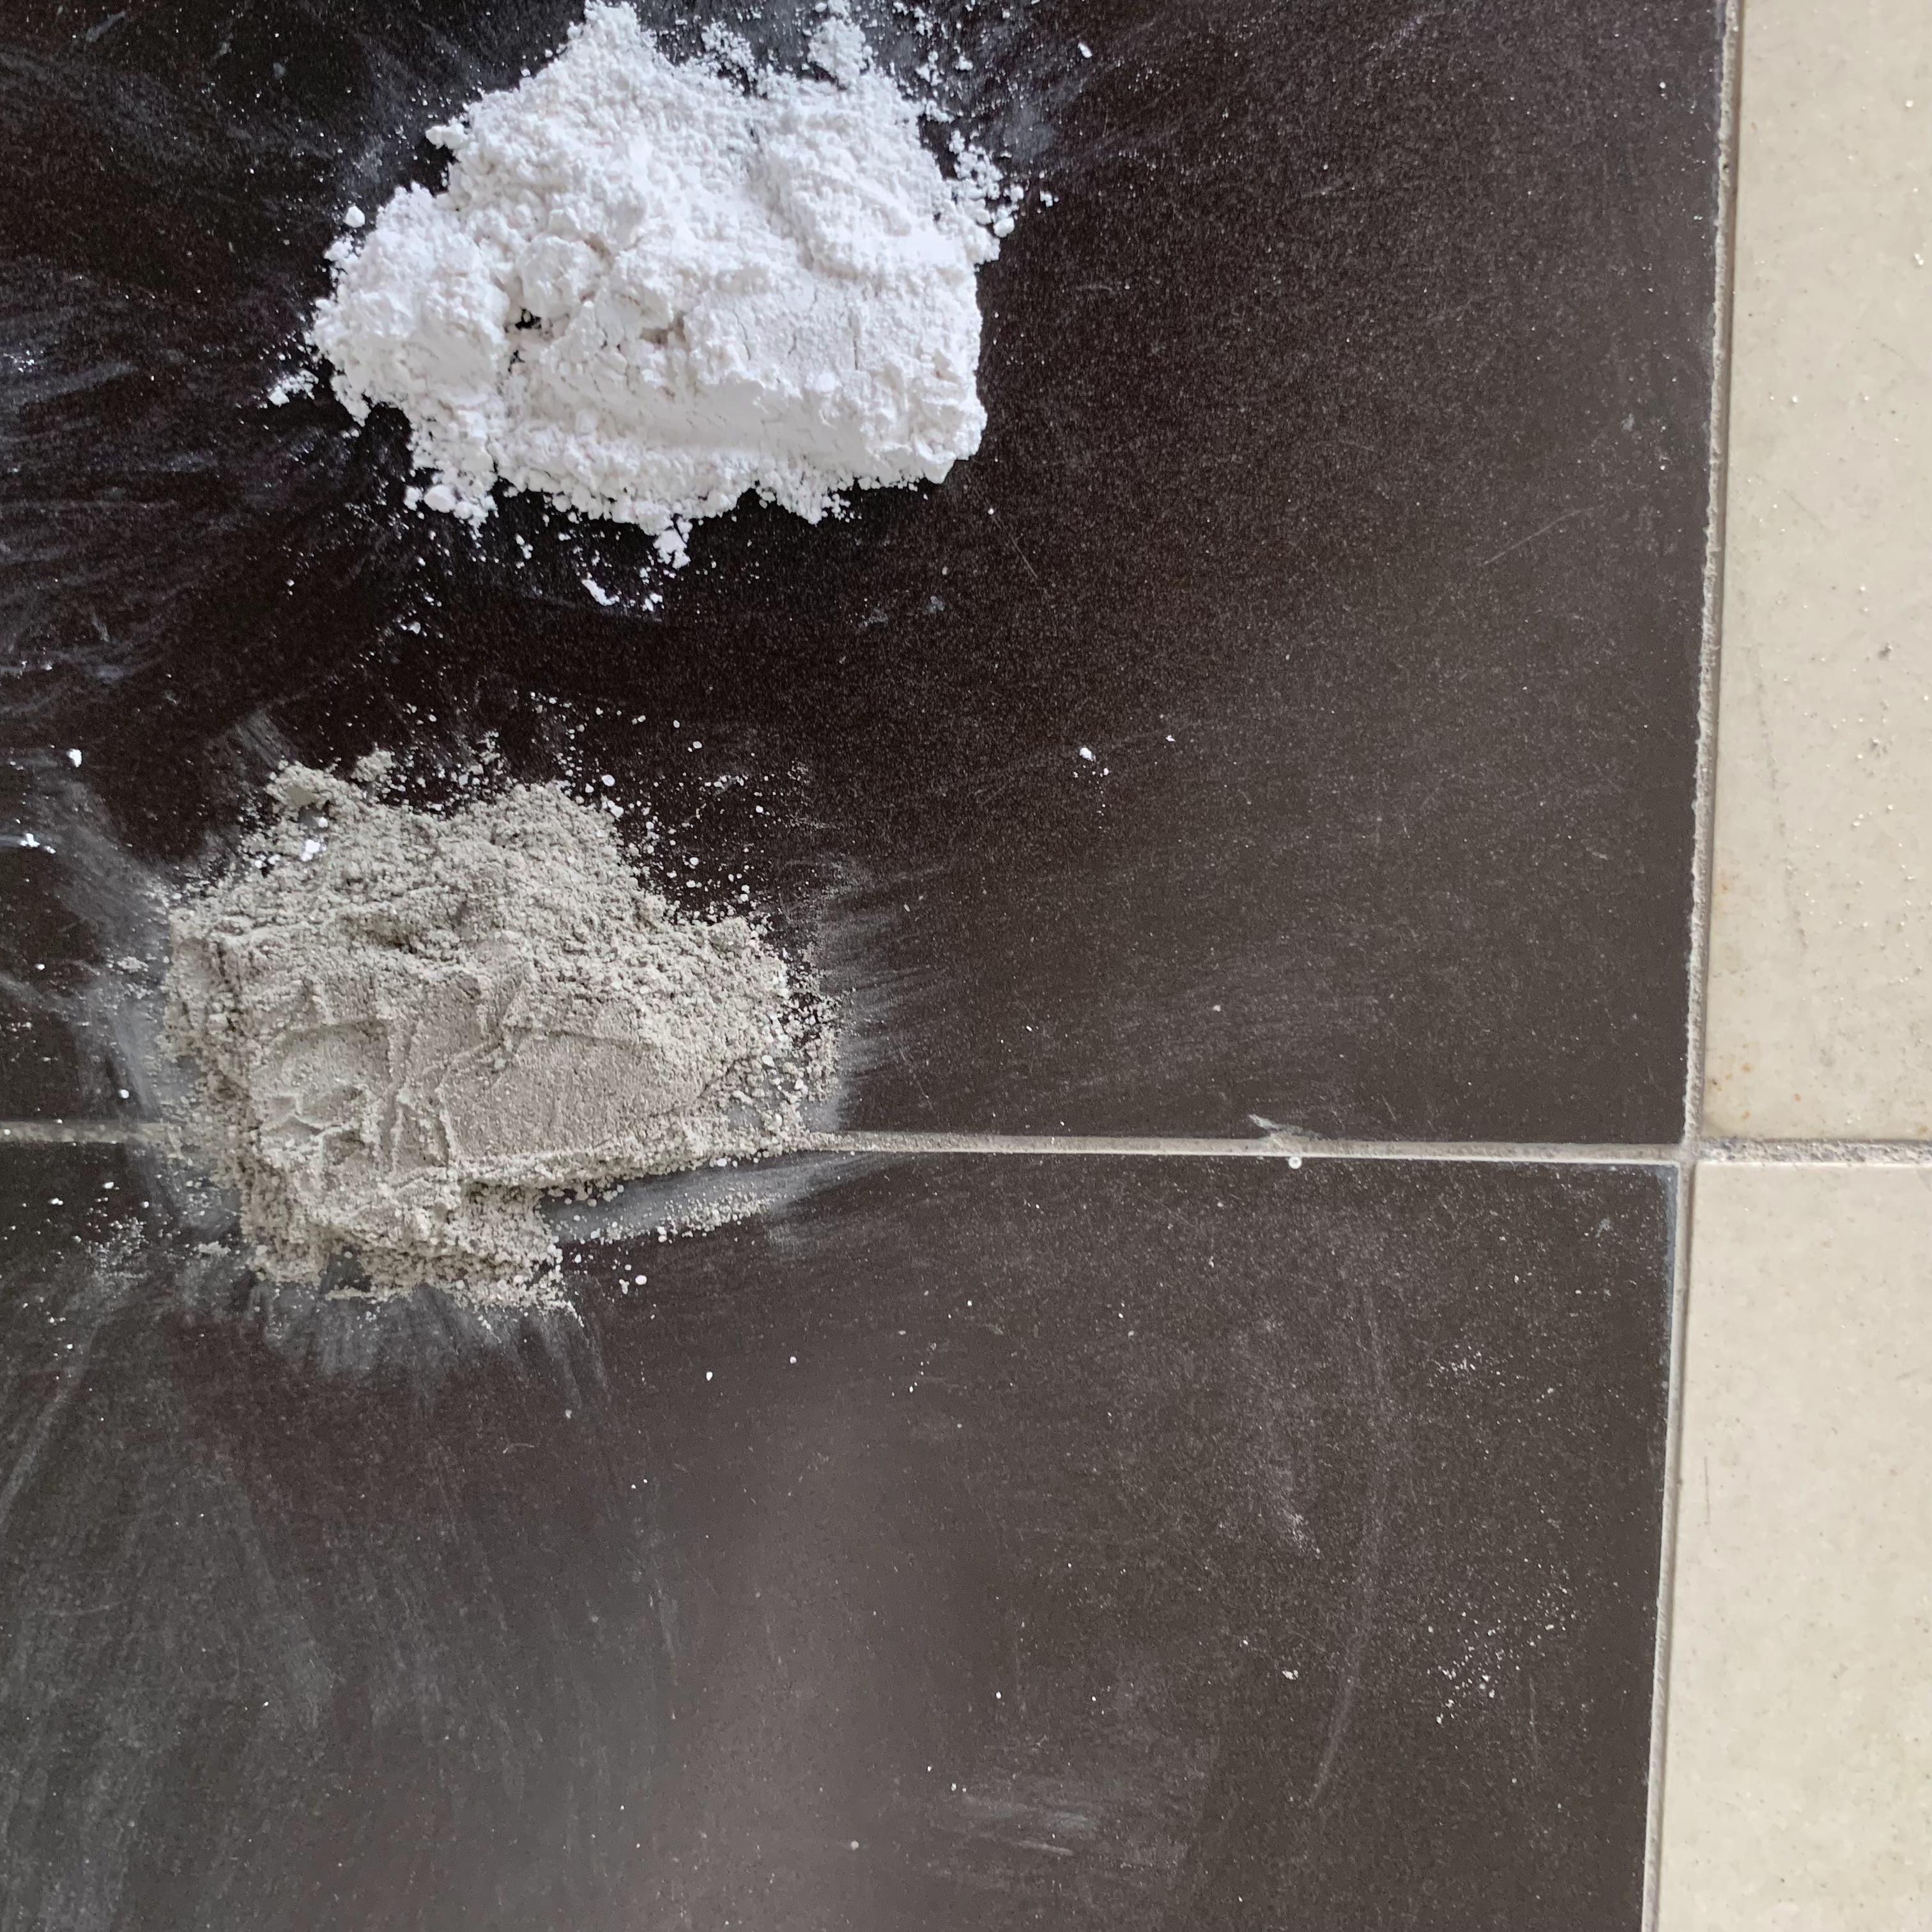ash pile: (0, 686, 909, 1392), (262, 2, 1060, 614)
